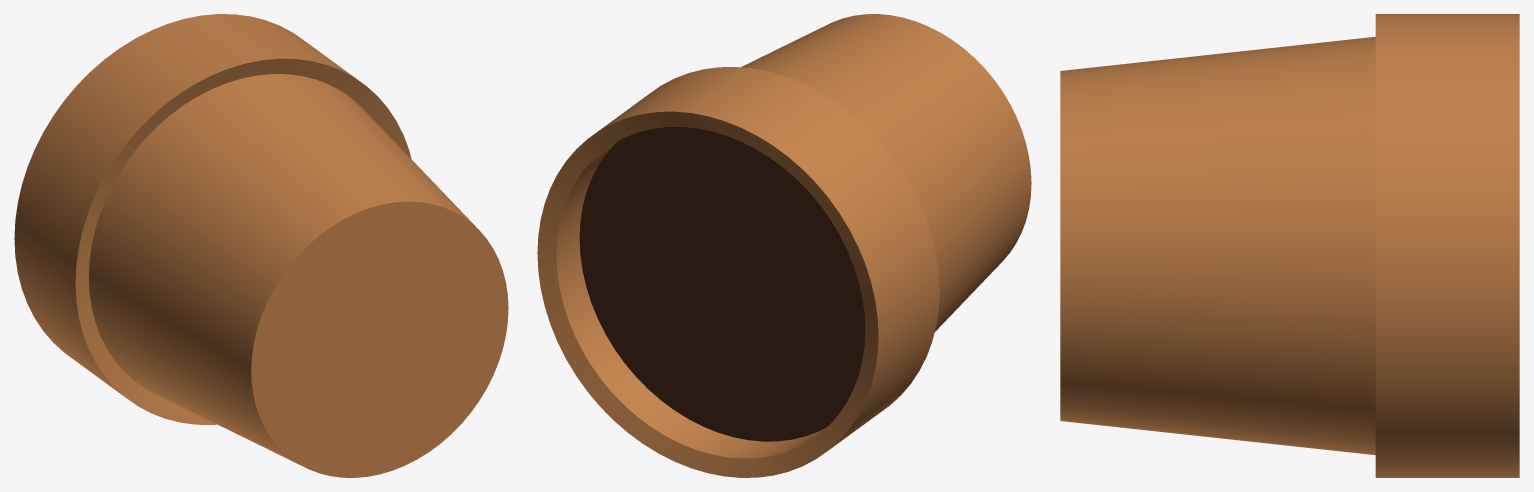
File: Blumentopf.fbx
3 views of the same model, side by side, from view 1: azimuth 30°, elevation 25°; view 2: azimuth 150°, elevation 25°; view 3: azimuth 270°, elevation 25° (orthographic). The views are drawn at different scales.
Visible parts, largest first — view 1: Cylinder; view 2: Cylinder; view 3: Cylinder.
Part boxes in pixels (box(x1,y1,x2,y2)): Cylinder: box(14, 14, 508, 477); Cylinder: box(537, 14, 1031, 477); Cylinder: box(1060, 14, 1519, 477).
Bounding box in the file's own units: 214 × 214 × 211.
